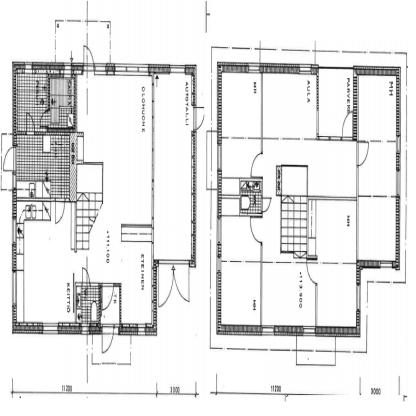door: (156, 258, 190, 308), (3, 141, 17, 176), (101, 324, 116, 356), (248, 214, 263, 246), (192, 102, 206, 134), (102, 280, 115, 311), (342, 108, 354, 141), (250, 151, 264, 179), (357, 140, 369, 168), (80, 264, 92, 289), (307, 262, 319, 286), (38, 107, 51, 128), (56, 197, 66, 224), (83, 44, 93, 70), (27, 111, 36, 135), (262, 195, 272, 213)
window: (115, 65, 148, 75), (12, 269, 17, 304), (303, 324, 315, 338), (63, 62, 73, 78), (170, 64, 184, 75), (356, 281, 361, 310), (262, 324, 274, 336), (217, 214, 222, 242), (43, 324, 56, 334), (298, 64, 310, 74), (218, 140, 222, 168), (248, 63, 258, 74), (95, 64, 106, 74), (24, 61, 32, 74), (380, 260, 392, 268), (395, 169, 399, 190), (138, 322, 144, 336), (396, 133, 400, 150), (13, 219, 16, 241), (217, 255, 221, 271), (13, 172, 17, 186)
zone: (265, 69, 355, 328), (76, 70, 149, 325), (16, 197, 79, 322), (154, 67, 193, 257), (358, 72, 395, 257), (306, 194, 355, 326), (221, 71, 261, 177), (222, 216, 260, 324), (15, 134, 76, 198), (318, 66, 353, 137), (16, 63, 48, 127), (92, 327, 130, 361), (221, 178, 260, 210), (51, 71, 73, 125), (77, 282, 99, 318), (100, 286, 120, 322)
